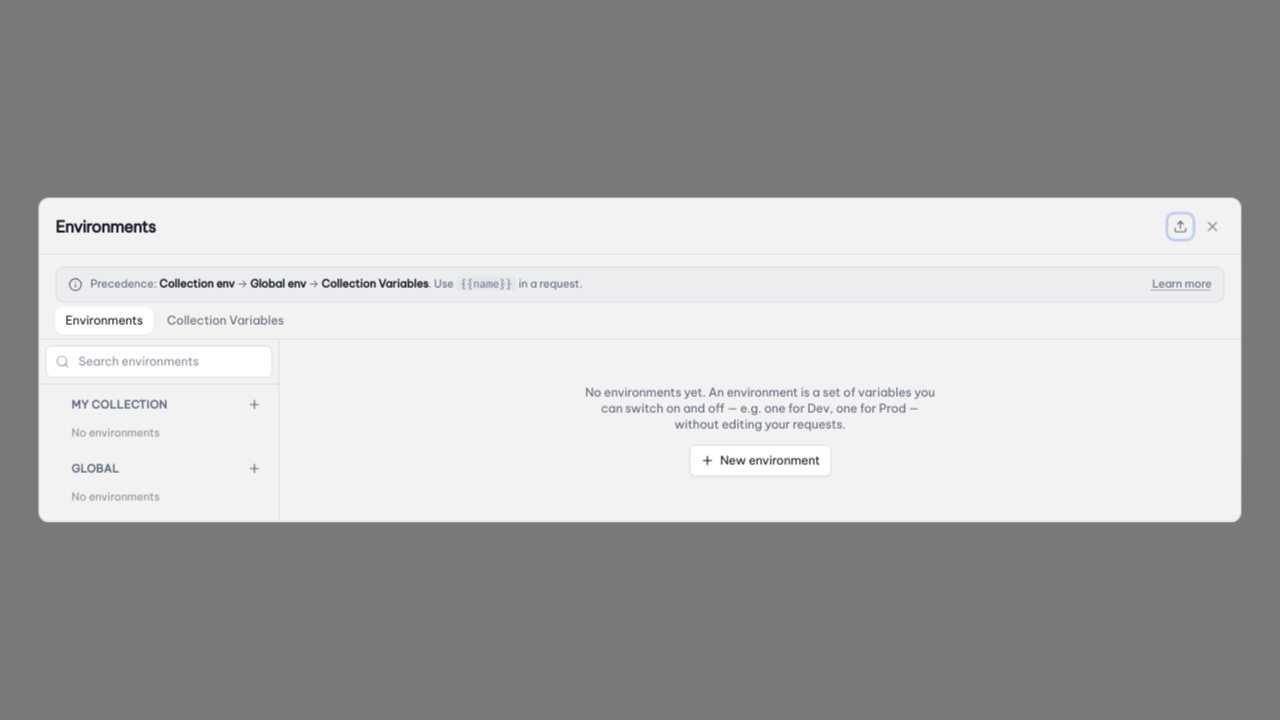
Scenario: EnvironmentEditor — precedence explainer collapse › shows only the one-line precedence summary until "Learn more" is clicked
Expected: the text "scoped to one" is not shown
Expected: the text "Precedence:" is shown, 90,277 -> 157,291
Click the button "Learn more": coordinates (1182, 285) 1152,276 -> 1212,294
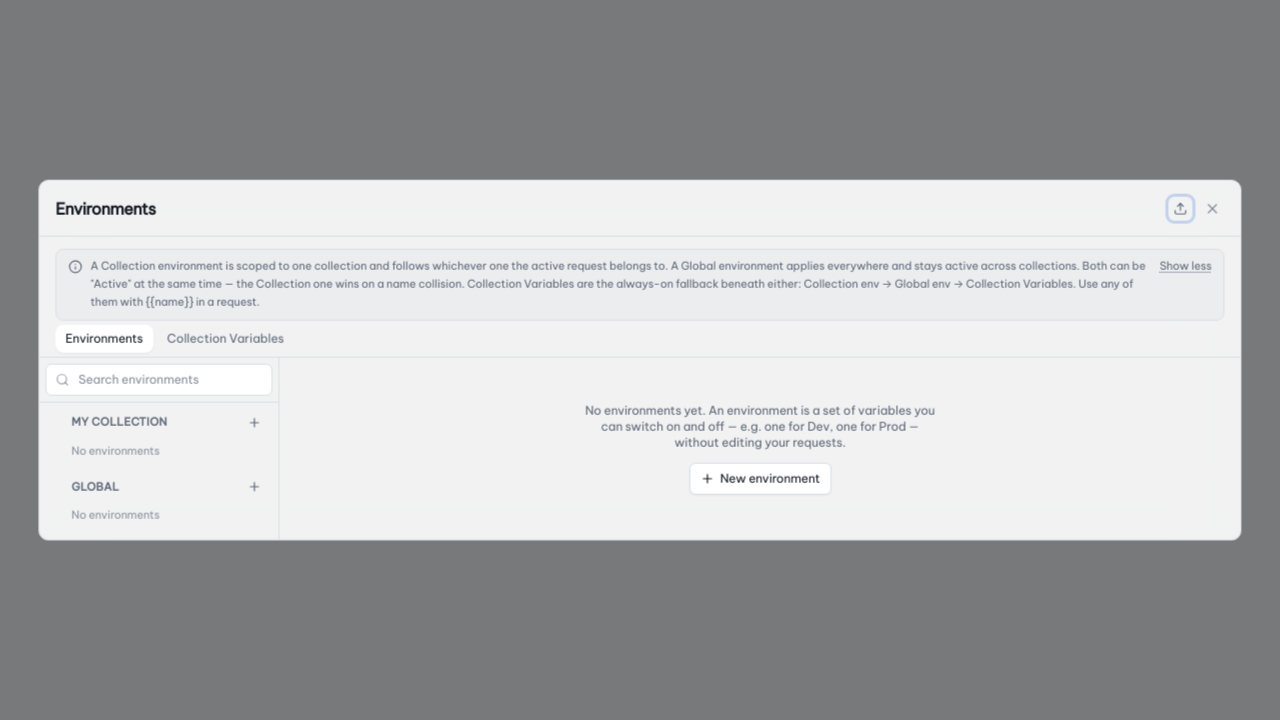
Result: the text "scoped to one" is shown at 90,259 -> 1146,308
Result: the text "Precedence:" is gone
Click the button "Show less": coordinates (1186, 267) 1160,258 -> 1212,276
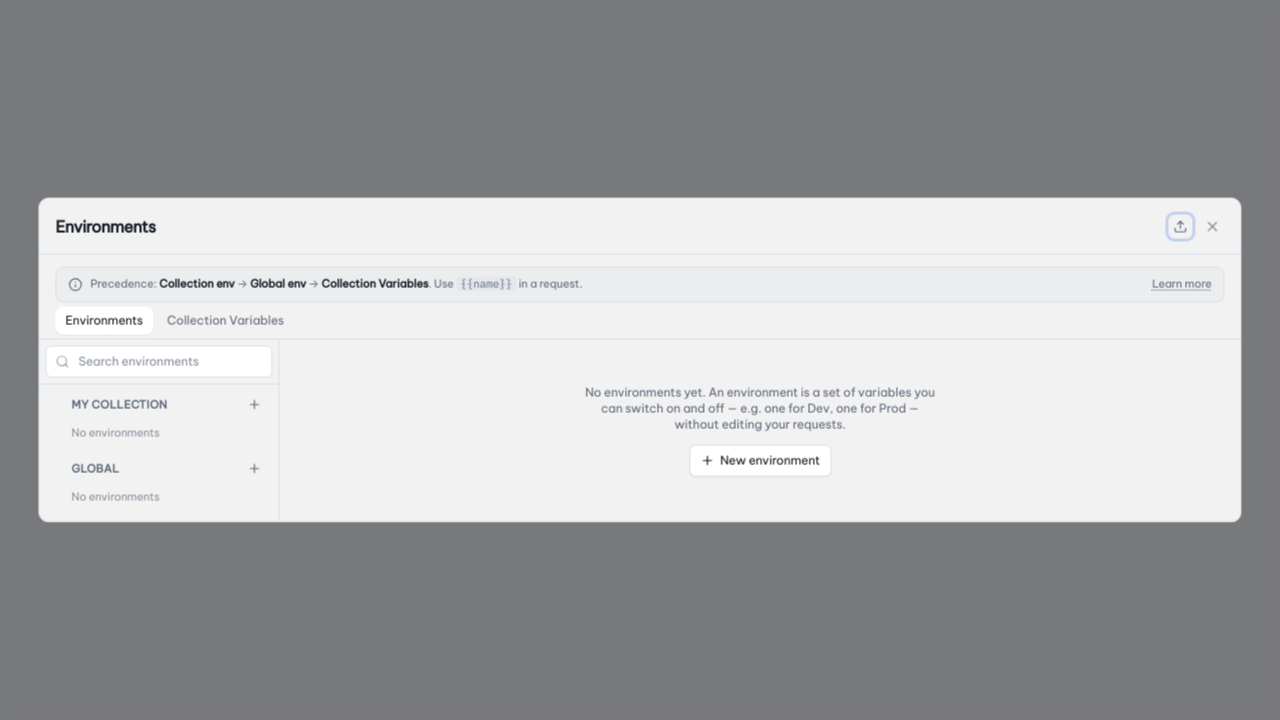
Result: the text "scoped to one" is gone
Result: the text "Precedence:" is shown at 90,277 -> 157,291
